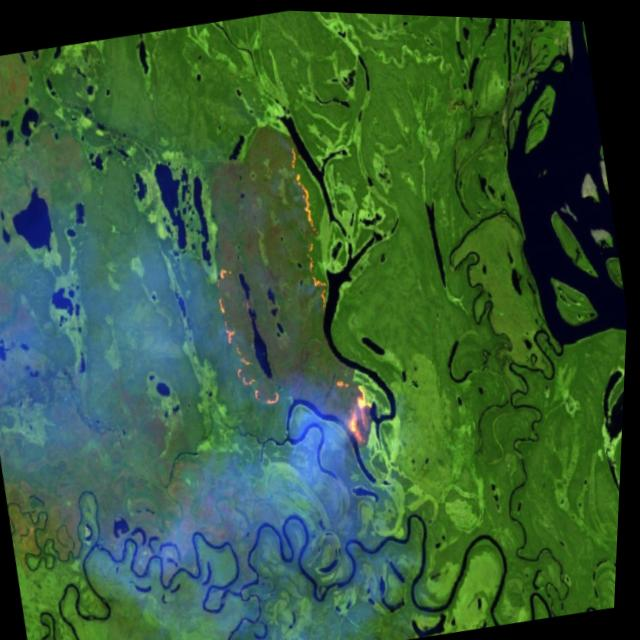fire: (205, 253, 296, 425), (335, 360, 391, 451)
